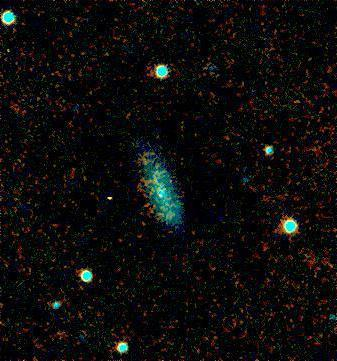star: (96, 186, 126, 216)
